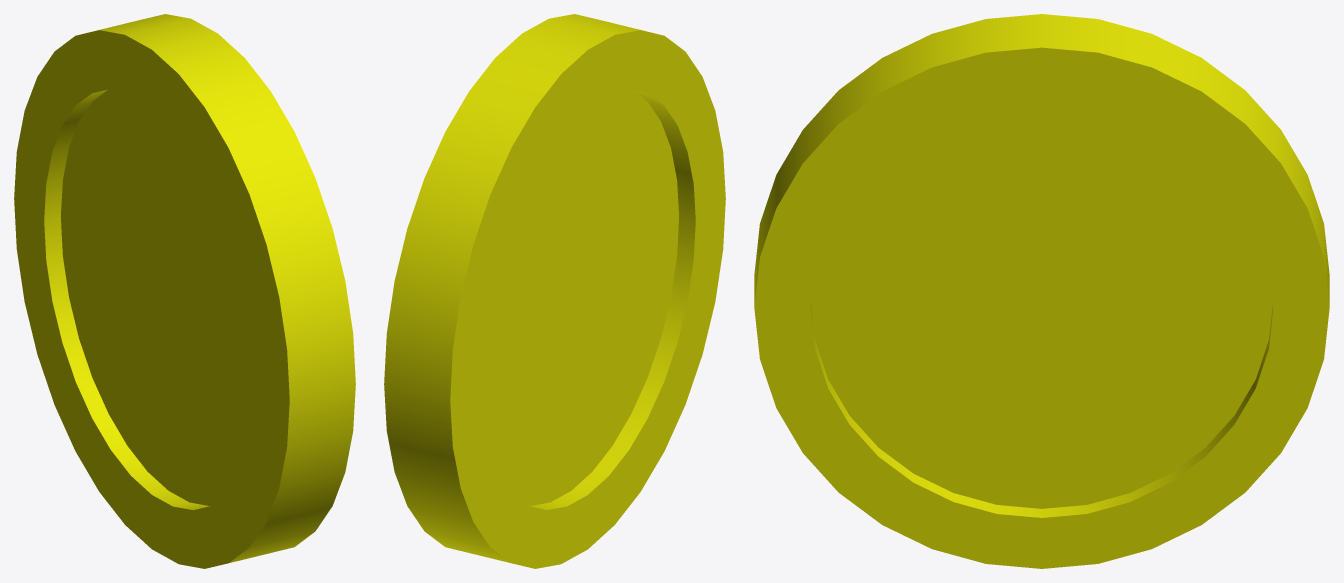
File: Coin.fbx
3 renders of one model, left to right at view 1: azimuth 30°, elevation 25°; view 2: azimuth 150°, elevation 25°; view 3: azimuth 270°, elevation 25°, orthographic. The views are drawn at different scales.
Visible parts, largest first — view 1: 円柱.001; view 2: 円柱.001; view 3: 円柱.001.
Boxes of the visible parts, left/top/right/bottom form: 円柱.001: left=14, top=14, right=355, bottom=568; 円柱.001: left=384, top=14, right=725, bottom=568; 円柱.001: left=754, top=14, right=1329, bottom=568.
Bounding box in the file's own units: 163 × 1178 × 1178.
